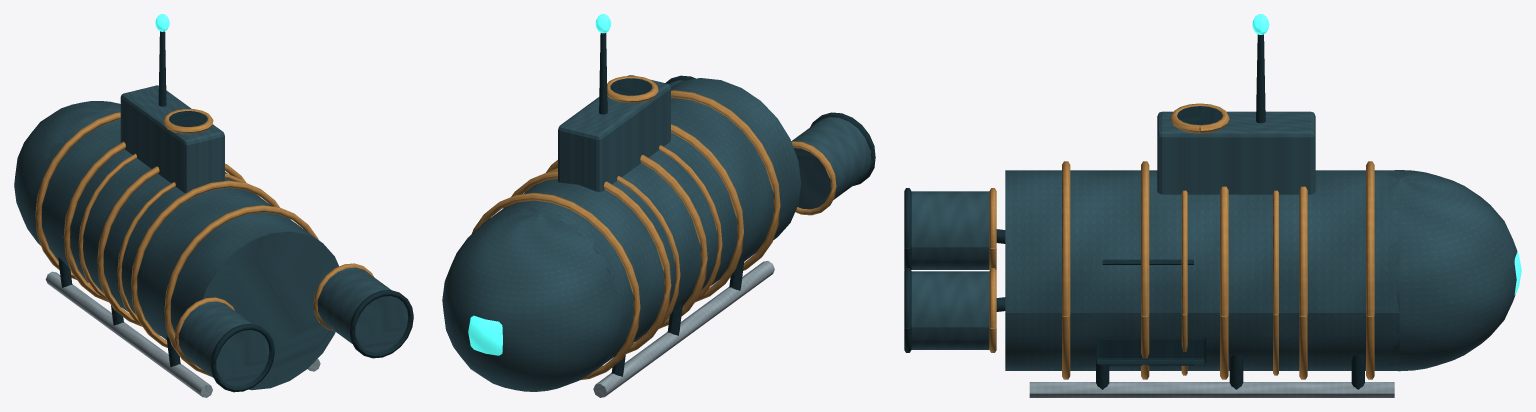
Rendered from shipwreck.glb.
The picture shows the model from 3 angles, left to right: view 1: azimuth 30°, elevation 25°; view 2: azimuth 150°, elevation 25°; view 3: azimuth 270°, elevation 25°; orthographic projection. The views are drawn at different scales.
Parts seen in each view (by area): view 1: shipwreck; view 2: shipwreck; view 3: shipwreck.
Part boxes in pixels (box(x1,y1,x2,y2)): shipwreck: box(14, 14, 413, 397); shipwreck: box(442, 14, 875, 397); shipwreck: box(904, 14, 1521, 397).
Bounding box in the file's own units: 4.52 × 6.43 × 10.14.
Materials: 1 (1 with a texture image).
